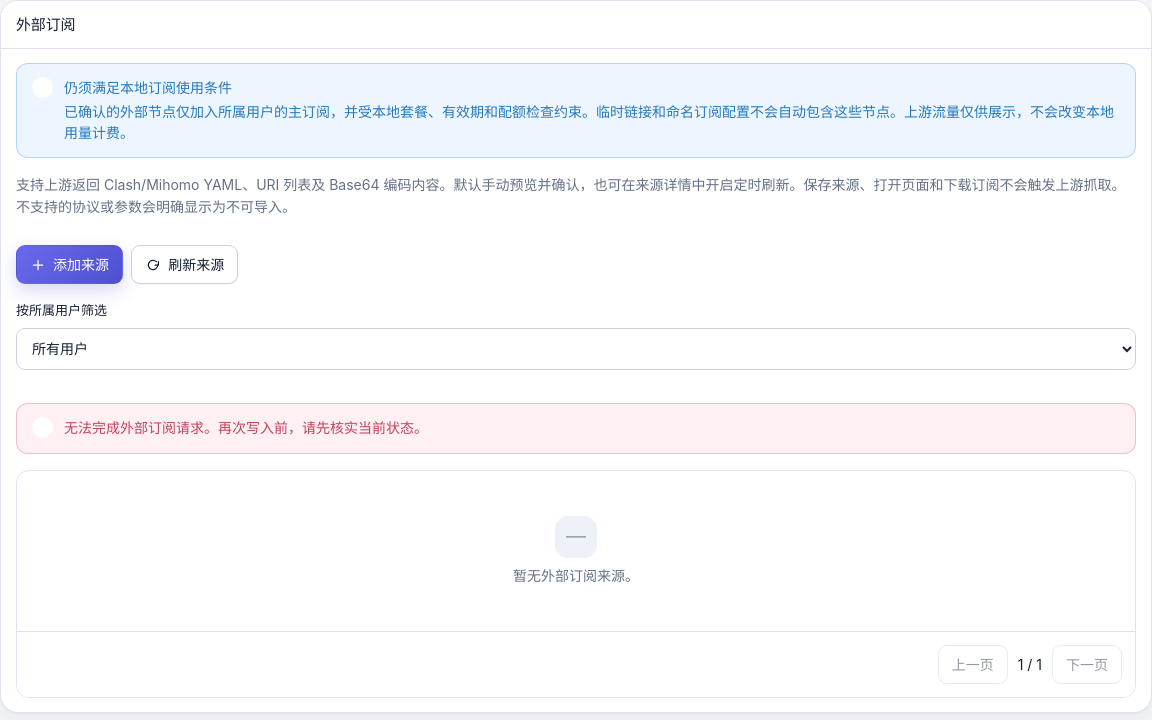
Test case: external sources: explicit administration and secret handling › ignores a superseded list read and safely retries a failed status read
This screenshot has width=1152, height=720.
Expected: the text "https://provider.example/subscription?token=source-private-token" is not shown
Expected: the text "无法完成外部订阅请求。再次写入前，请先核实当前状态。" is shown, [64,419,428,436]
Click the button named "刷新外部订阅来源" at (185, 265), box [131,245,238,284]
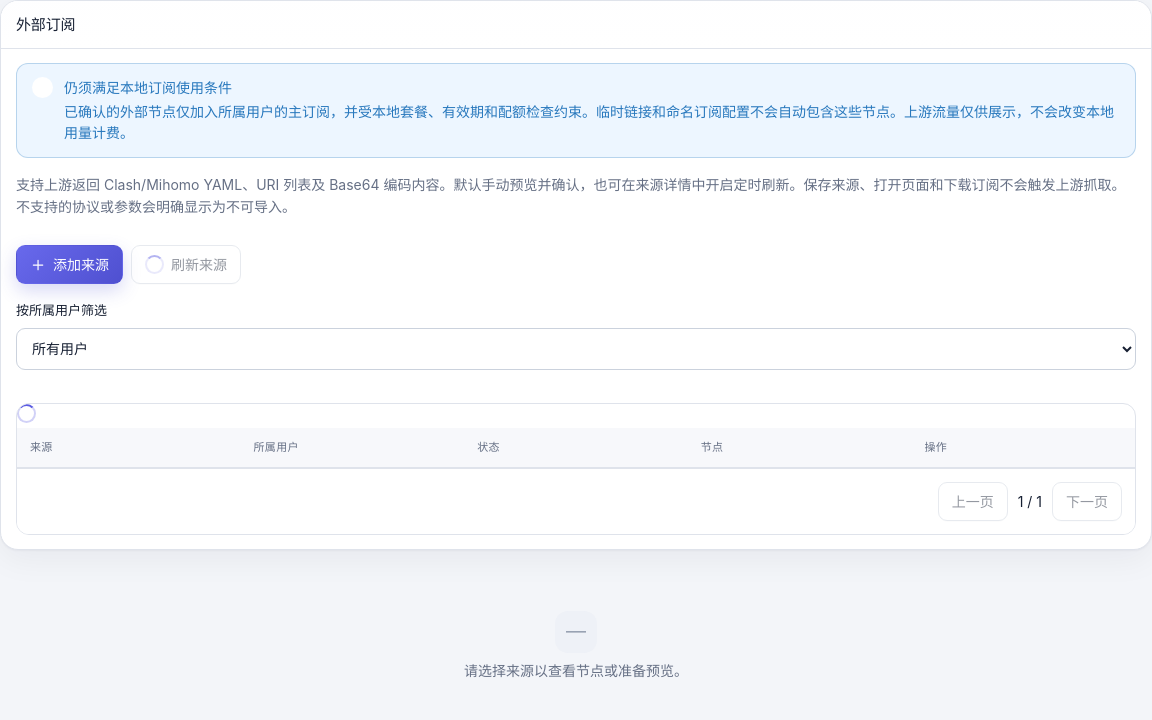
Click the button named "添加外部订阅来源" at (70, 265), box [16,245,123,284]
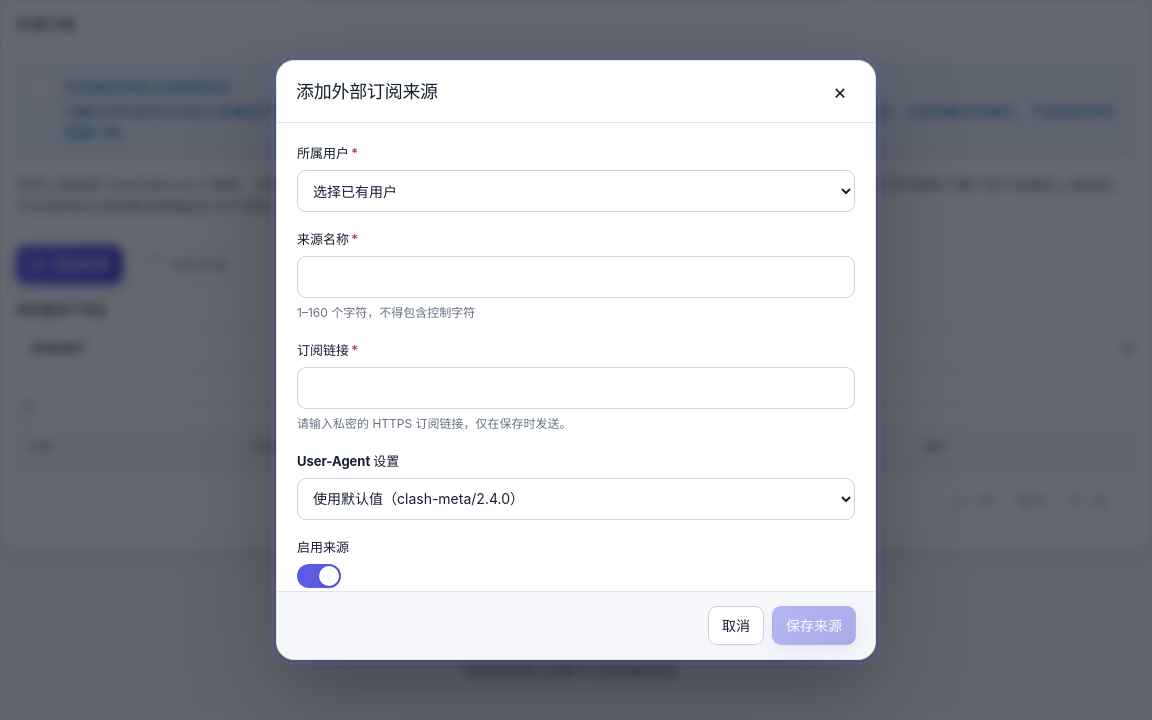
Press the mouse on the dropdown named "外部订阅所属用户" at (576, 191), box [297,170,855,212]
Select "Alice (alice)" in the dropdown named "外部订阅所属用户" at (576, 191), box [297,170,855,212]
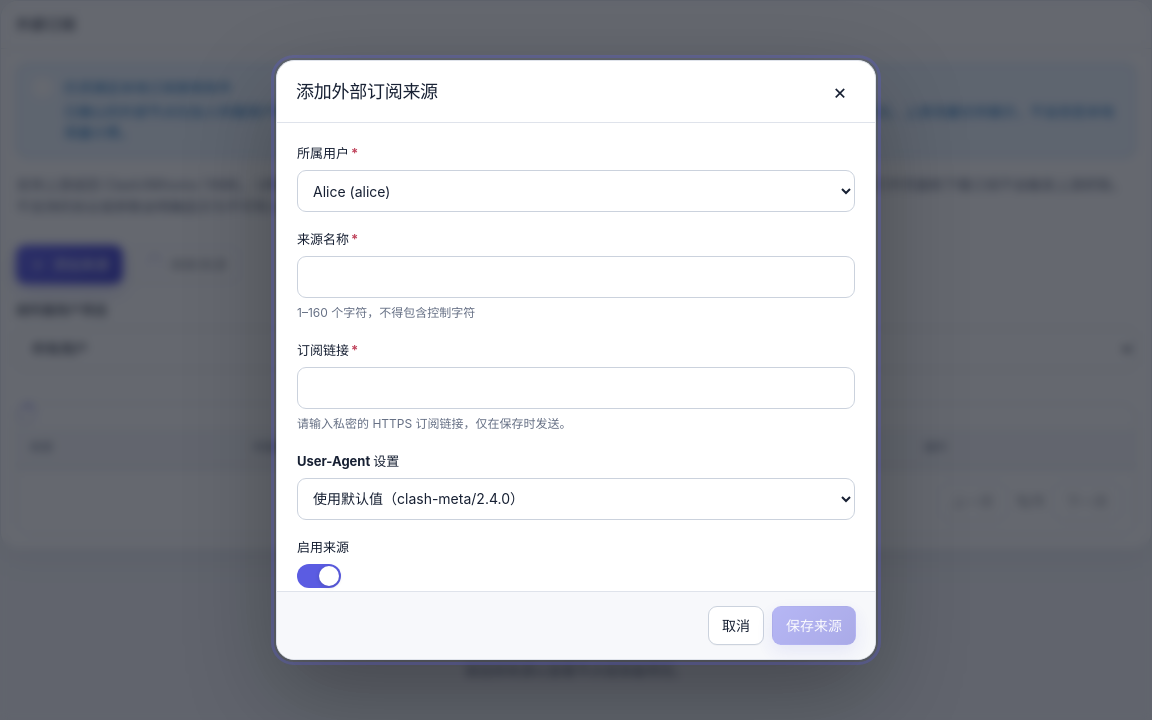
Type "New provider" into the field named "外部订阅来源名称" at (576, 277), box [297,256,855,298]
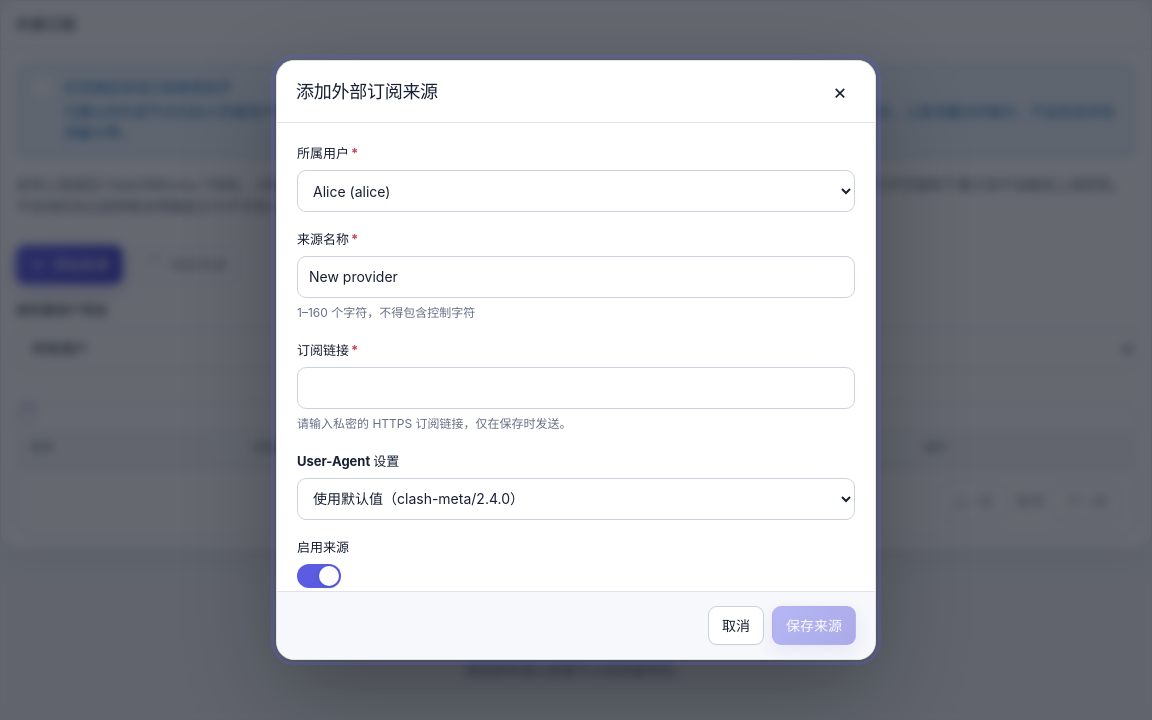
Type "https://provider.example/subscription?token=source-private-token" into the password field named "外部订阅链接" at (576, 388), box [297,367,855,409]
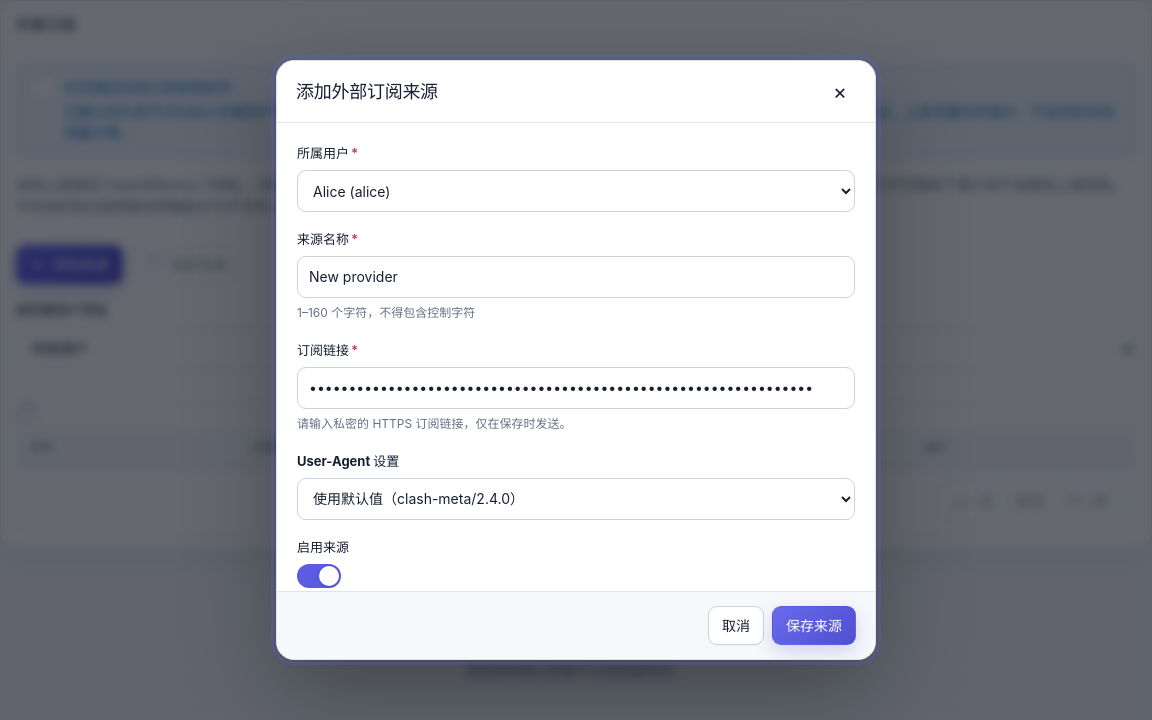
Click the button named "保存外部订阅来源" at (814, 626), box [772,606,856,645]
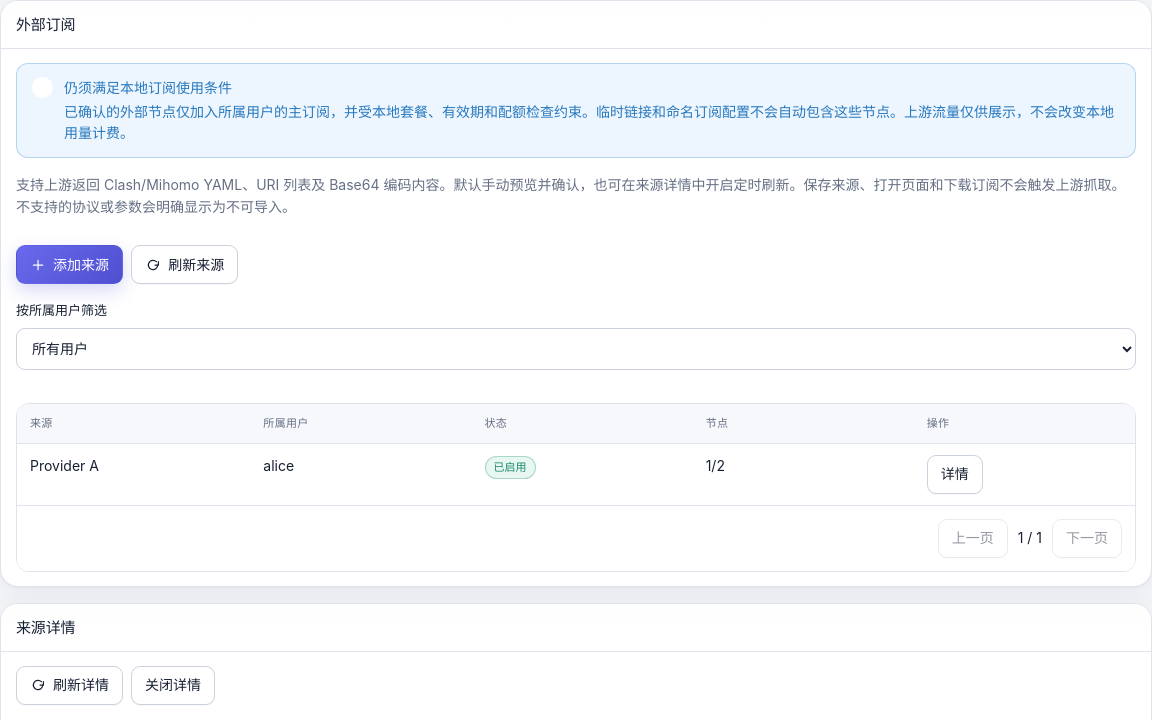
Expected: the button "查看外部订阅来源 Provider B" is not shown
Now the button named "查看外部订阅来源 Provider A" is shown, box [927,455,983,494]
